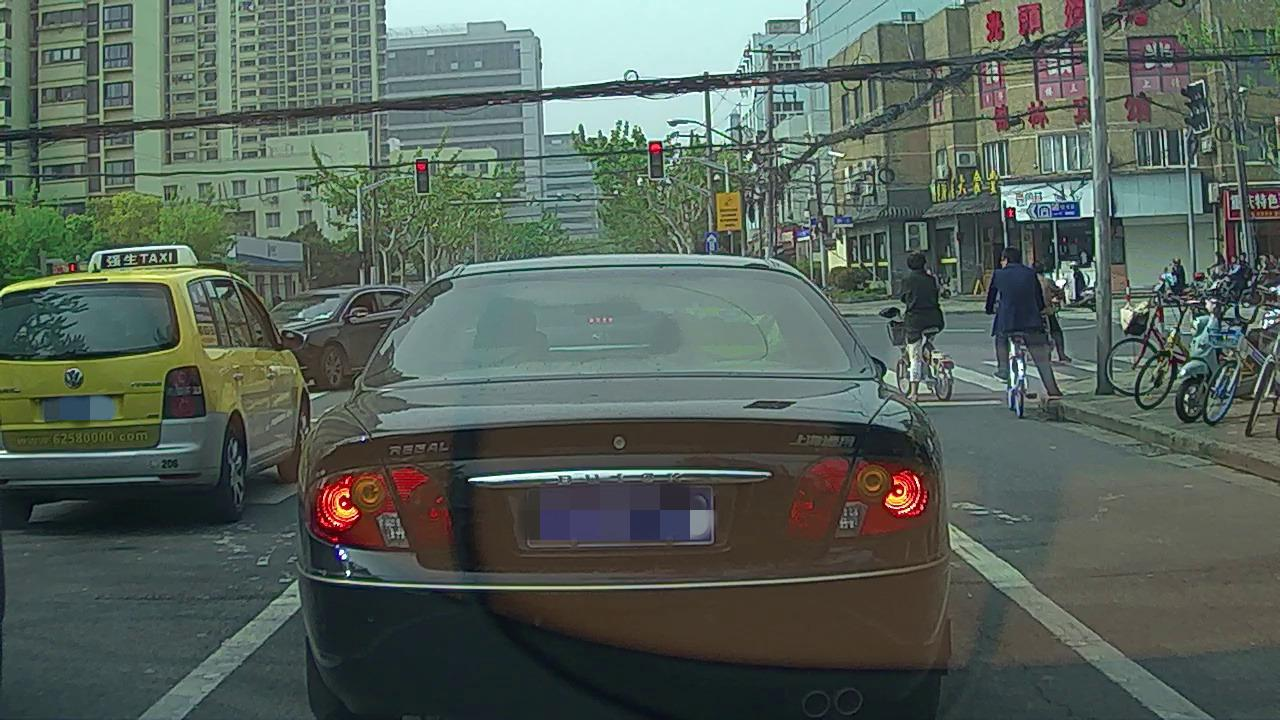traffic_light: (415, 159, 430, 196), (648, 143, 663, 179)
